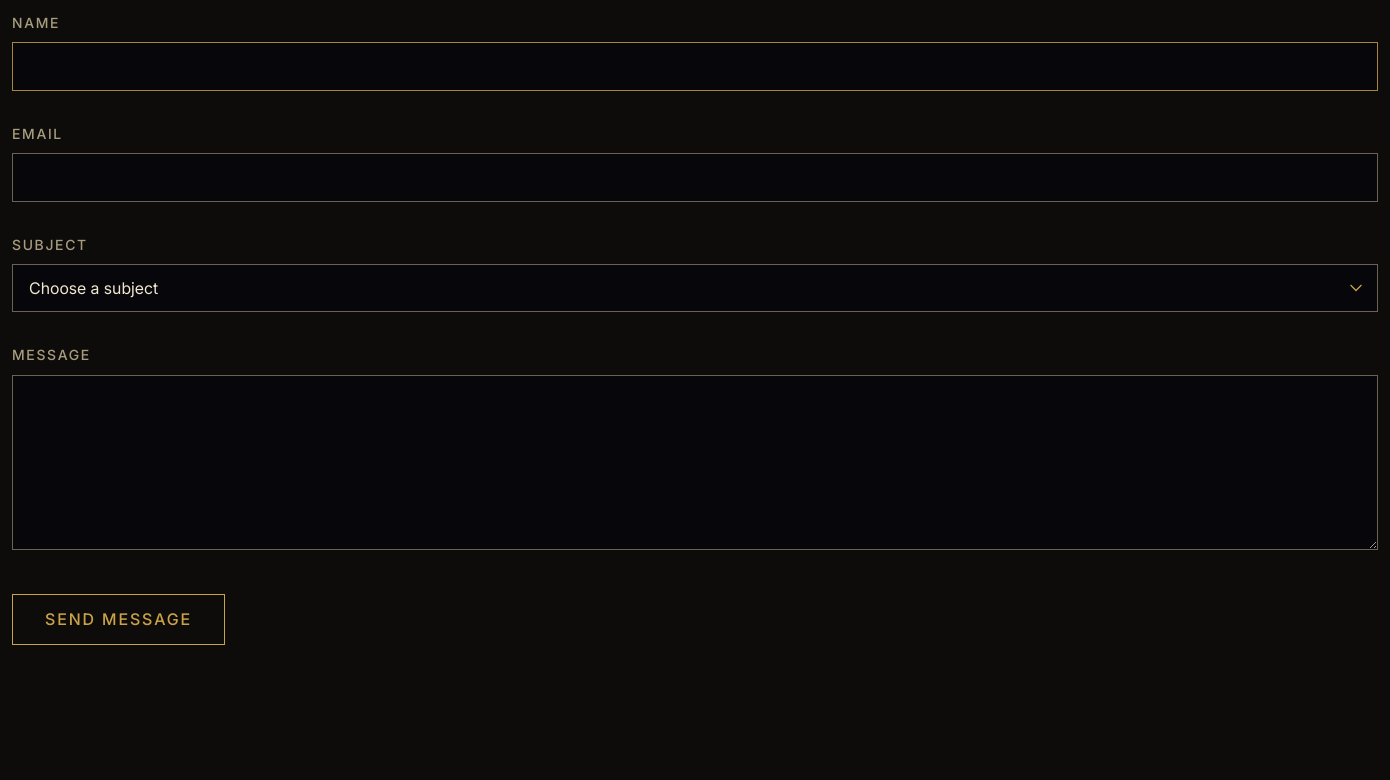
Test case: ContactForm › submits the collected fields and shows the success message
Type "Ada" into the field with test id "contact-form-name" at {"x": 695, "y": 67}, box [12,42,1378,91]
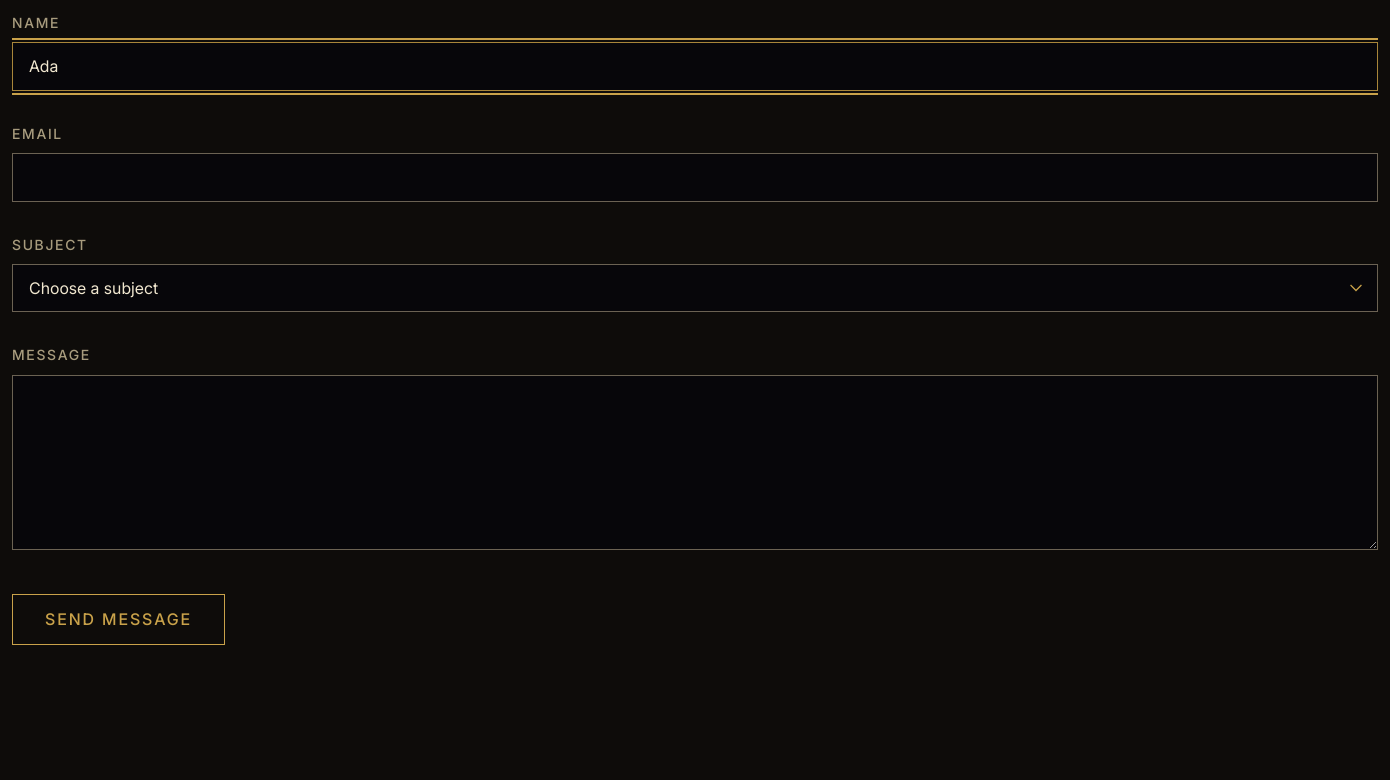
Type "ada@example.com" into the field with test id "contact-form-email" at {"x": 695, "y": 177}, box [12,153,1378,202]
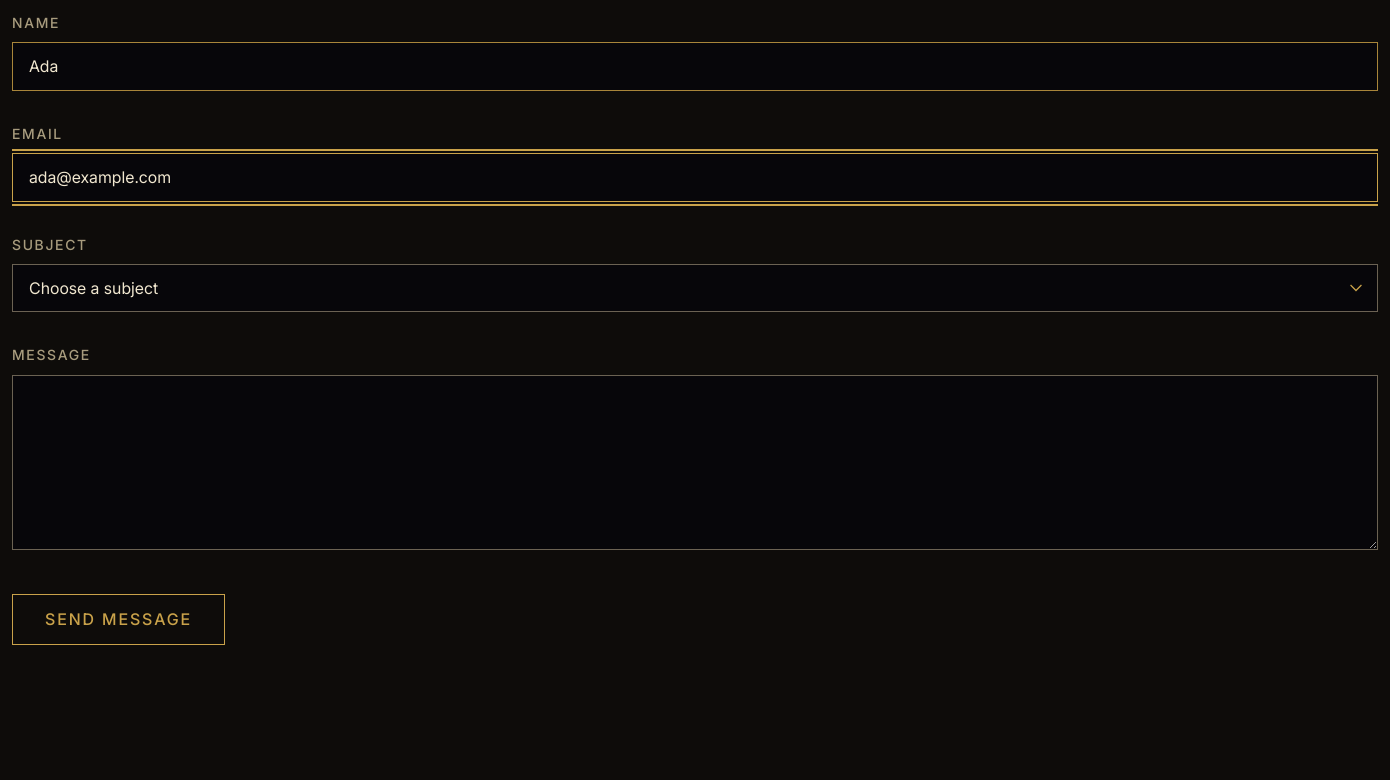
Select "General inquiry" in the dropdown with test id "contact-form-subject-select" at {"x": 695, "y": 288}, box [12,264,1378,312]
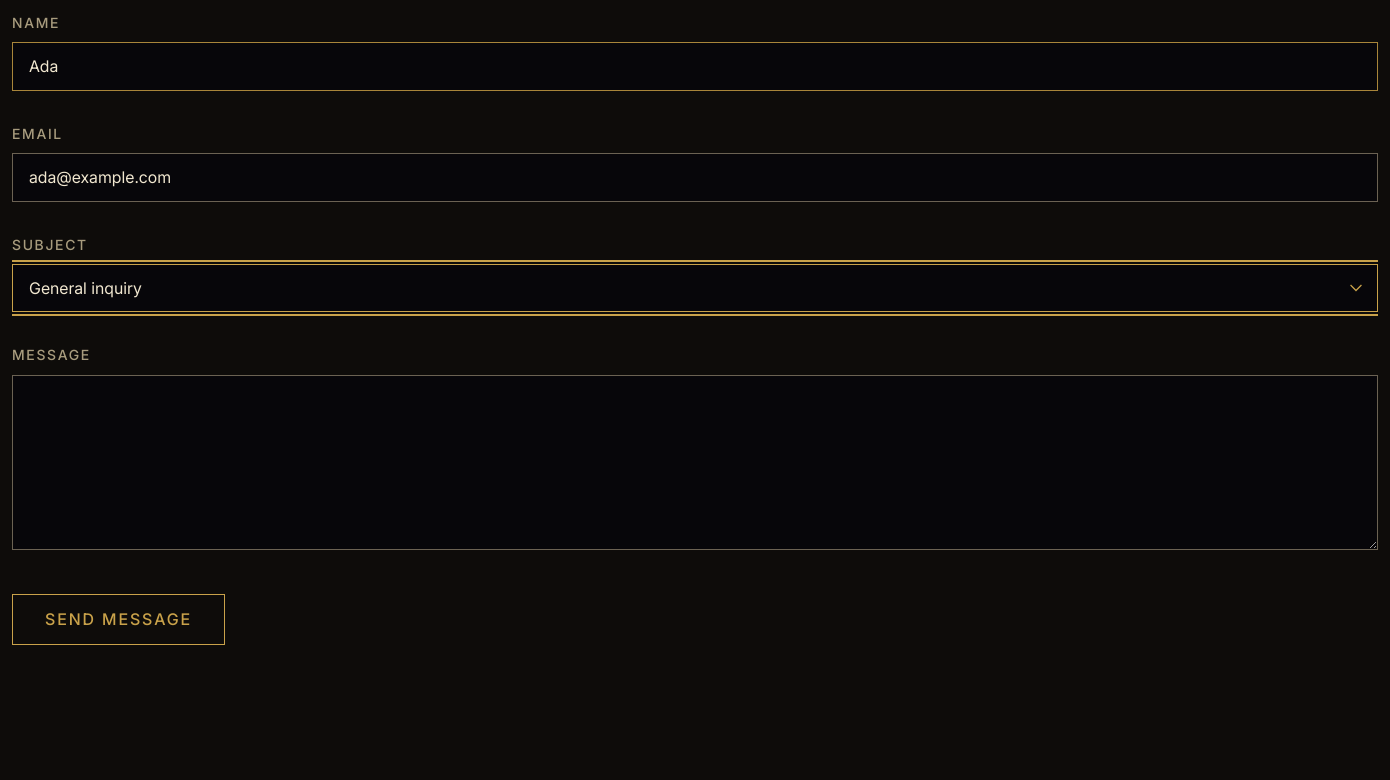
Type "Hello there" into the text box with test id "contact-form-message" at {"x": 695, "y": 462}, box [12,375,1378,550]
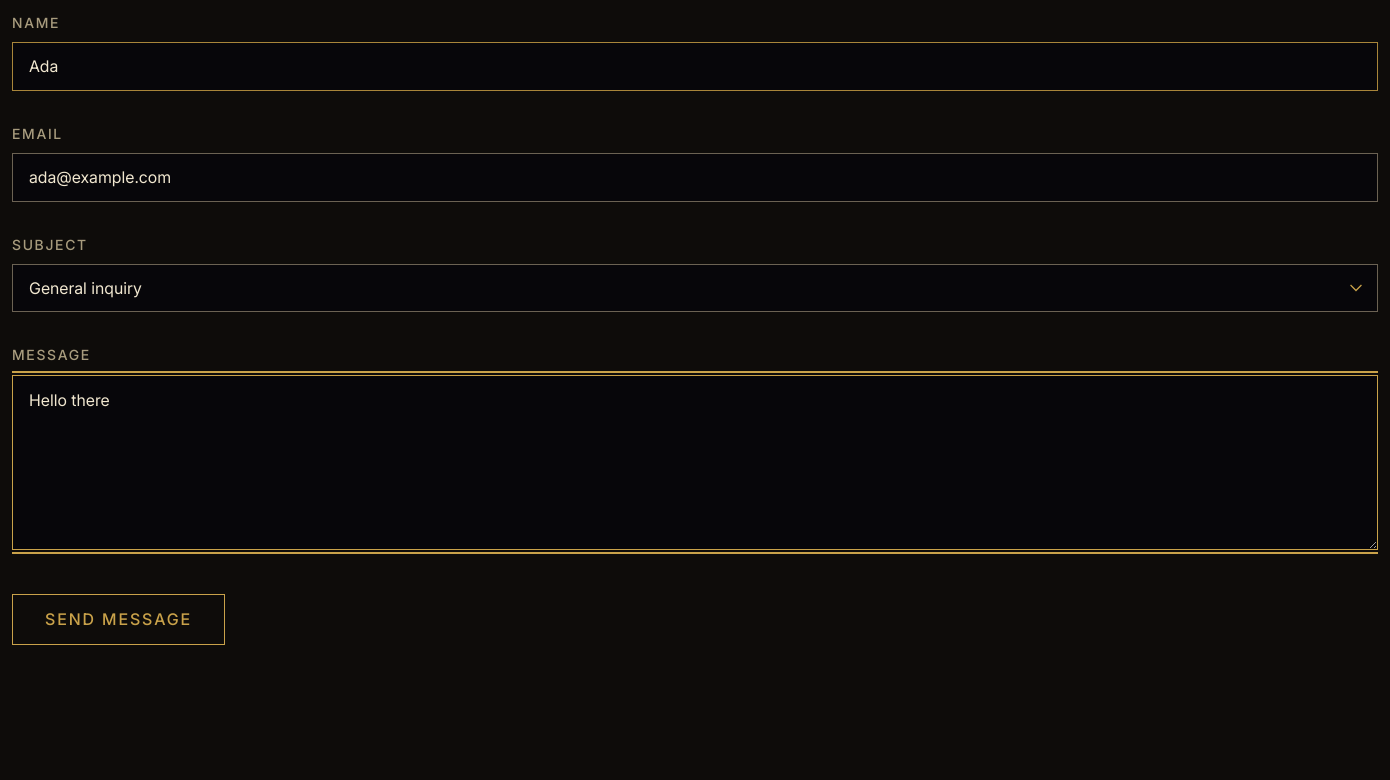
Click the button with test id "contact-form-submit" at {"x": 119, "y": 619}, box [12,594,225,645]
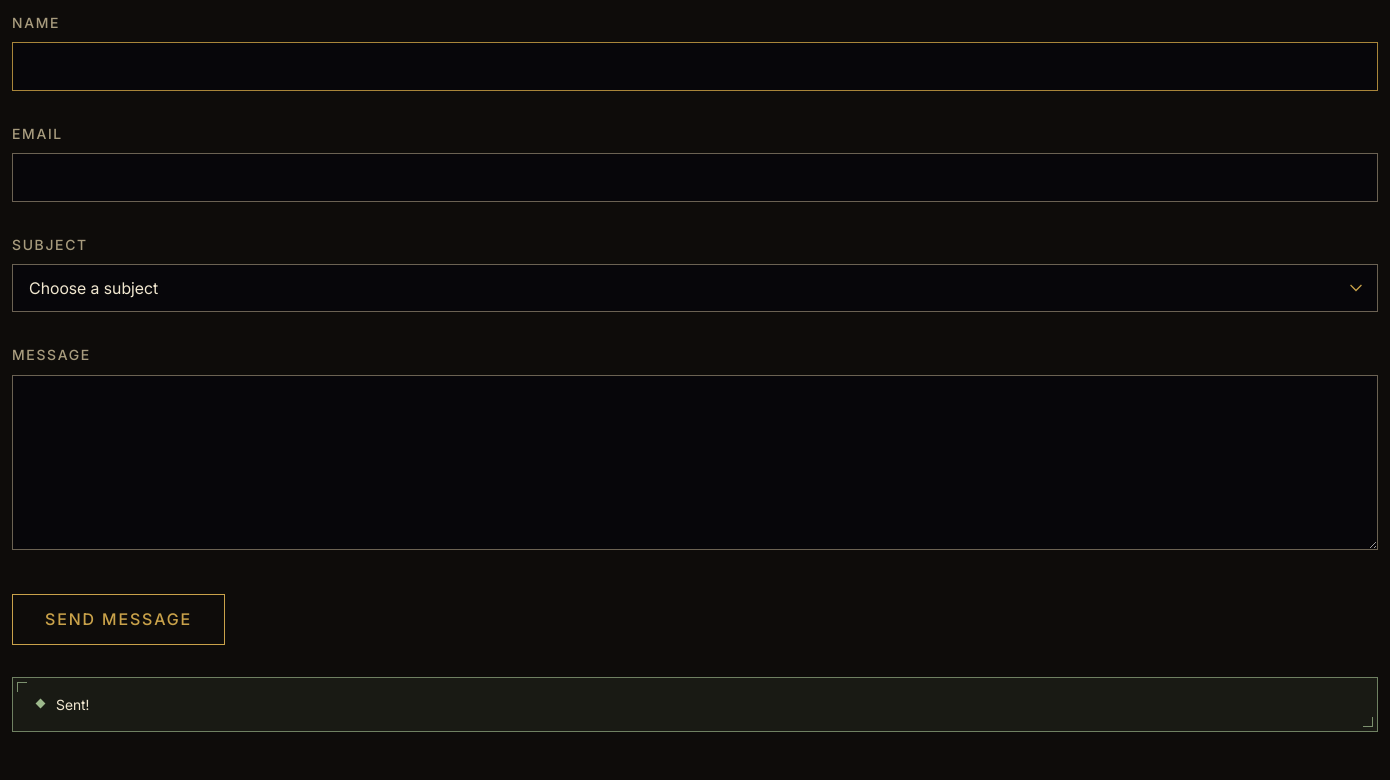
Now the element with test id "contact-form-success" reads "Sent!", box [56,696,89,713]
Now the field with test id "contact-form-name" is empty, box [12,42,1378,91]
